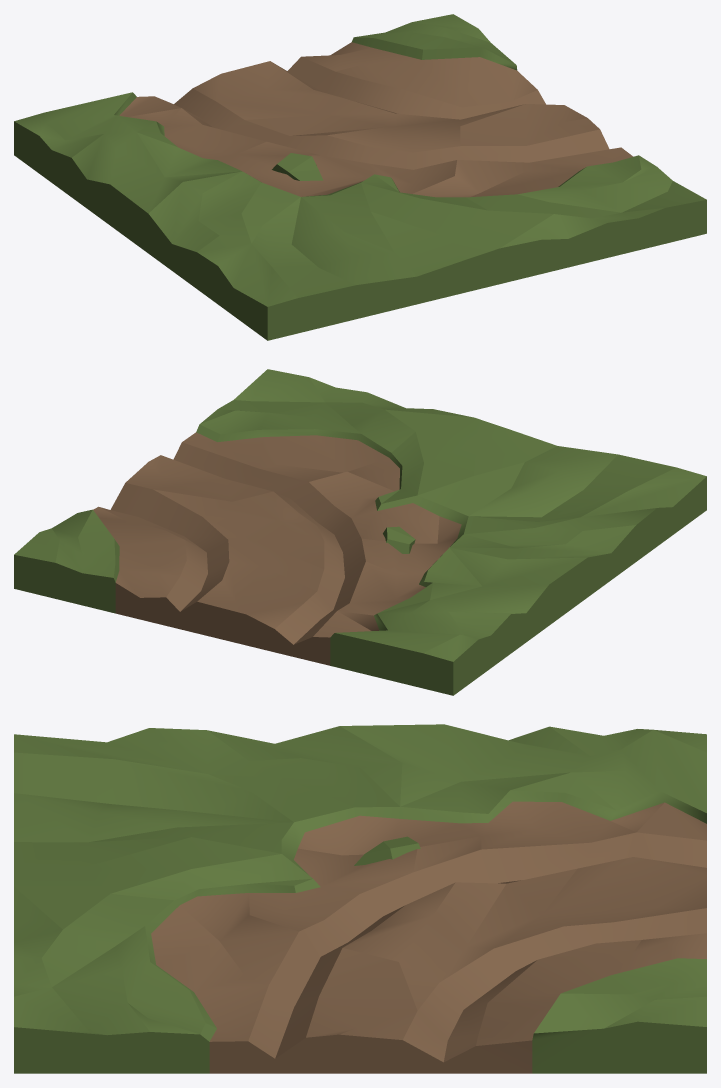
File: Ground_Road_Turn_LB.glb
3 renders of one model, top to bottom at view 1: azimuth 30°, elevation 25°; view 2: azimuth 150°, elevation 25°; view 3: azimuth 270°, elevation 25°, orthographic. The views are drawn at different scales.
Parts seen in each view (by area): view 1: Ground_Road_Turn_LB; view 2: Ground_Road_Turn_LB; view 3: Ground_Road_Turn_LB.
Boxes of the visible parts, left/top/right/bottom form: Ground_Road_Turn_LB: left=14, top=14, right=706, bottom=340; Ground_Road_Turn_LB: left=14, top=369, right=706, bottom=695; Ground_Road_Turn_LB: left=14, top=724, right=706, bottom=1073.
Size of the model in its own units: 1.47 by 0.1477 by 1.47.
